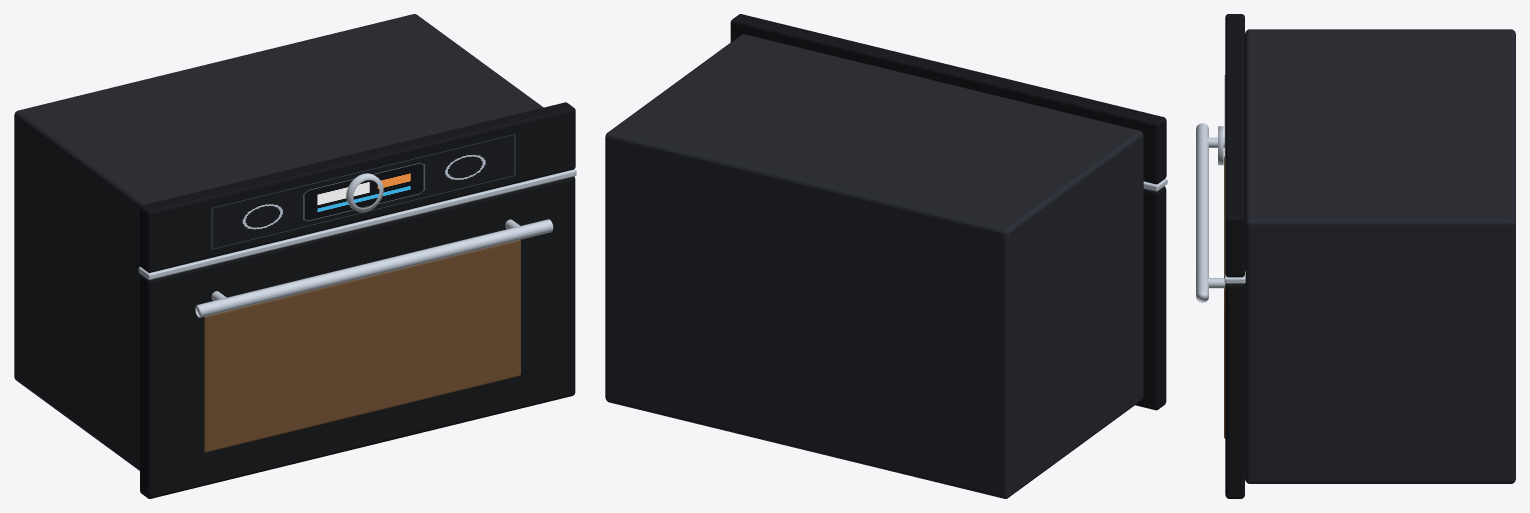
File: obj_microwave_builtin_600.glb
The picture shows the model from 3 angles, left to right: view 1: azimuth 30°, elevation 25°; view 2: azimuth 150°, elevation 25°; view 3: azimuth 270°, elevation 25°; orthographic projection. The views are drawn at different scales.
Parts seen in each view (by area): view 1: obj_microwave_builtin_600; view 2: obj_microwave_builtin_600; view 3: obj_microwave_builtin_600.
Part boxes in pixels (<box>): obj_microwave_builtin_600: <box>14,14,576,498</box>; obj_microwave_builtin_600: <box>605,14,1167,498</box>; obj_microwave_builtin_600: <box>1196,14,1515,498</box>.
Size of the model in its own units: 0.594 by 0.382 by 0.392.
Materials: 5 (1 with a texture image).
